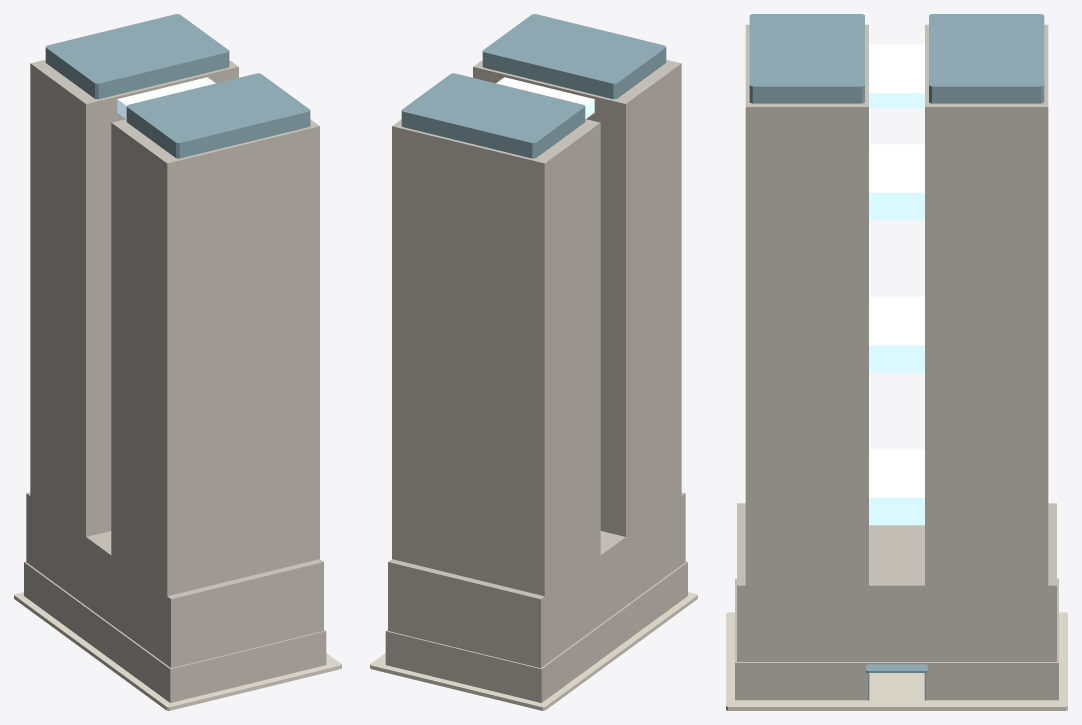
The model's file is Tower_TwinBridge_16F_v4_ShadowProxy.glb.
3 renders of one model, left to right at view 1: azimuth 30°, elevation 25°; view 2: azimuth 150°, elevation 25°; view 3: azimuth 270°, elevation 25°, orthographic. The views are drawn at different scales.
Parts seen in each view (by area): view 1: Tower_TwinBridge_16F_v4_ShadowProxy / Structure, Tower_TwinBridge_16F_v4_ShadowProxy / Roof, Tower_TwinBridge_16F_v4_ShadowProxy / Foundation, Tower_TwinBridge_16F_v4_ShadowProxy / Cross bridges; view 2: Tower_TwinBridge_16F_v4_ShadowProxy / Structure, Tower_TwinBridge_16F_v4_ShadowProxy / Roof, Tower_TwinBridge_16F_v4_ShadowProxy / Foundation, Tower_TwinBridge_16F_v4_ShadowProxy / Cross bridges; view 3: Tower_TwinBridge_16F_v4_ShadowProxy / Structure, Tower_TwinBridge_16F_v4_ShadowProxy / Roof, Tower_TwinBridge_16F_v4_ShadowProxy / Cross bridges, Tower_TwinBridge_16F_v4_ShadowProxy / Foundation, Tower_TwinBridge_16F_v4_ShadowProxy / Entrance modules.
Boxes of the visible parts, left/top/right/bottom form: Tower_TwinBridge_16F_v4_ShadowProxy / Structure: left=24, top=59, right=326, bottom=702; Tower_TwinBridge_16F_v4_ShadowProxy / Roof: left=45, top=14, right=310, bottom=158; Tower_TwinBridge_16F_v4_ShadowProxy / Foundation: left=14, top=592, right=341, bottom=710; Tower_TwinBridge_16F_v4_ShadowProxy / Cross bridges: left=117, top=77, right=215, bottom=118; Tower_TwinBridge_16F_v4_ShadowProxy / Structure: left=385, top=59, right=687, bottom=702; Tower_TwinBridge_16F_v4_ShadowProxy / Roof: left=401, top=14, right=666, bottom=158; Tower_TwinBridge_16F_v4_ShadowProxy / Foundation: left=370, top=592, right=697, bottom=710; Tower_TwinBridge_16F_v4_ShadowProxy / Cross bridges: left=496, top=77, right=594, bottom=118; Tower_TwinBridge_16F_v4_ShadowProxy / Structure: left=735, top=24, right=1058, bottom=700; Tower_TwinBridge_16F_v4_ShadowProxy / Roof: left=749, top=14, right=1044, bottom=103; Tower_TwinBridge_16F_v4_ShadowProxy / Cross bridges: left=869, top=44, right=924, bottom=525; Tower_TwinBridge_16F_v4_ShadowProxy / Foundation: left=726, top=612, right=1067, bottom=710; Tower_TwinBridge_16F_v4_ShadowProxy / Entrance modules: left=866, top=664, right=927, bottom=708.
Size of the model in its own units: 17 by 51.48 by 26.
